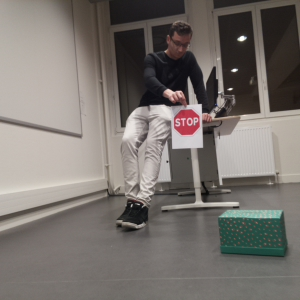stop: (174, 108, 200, 136)
